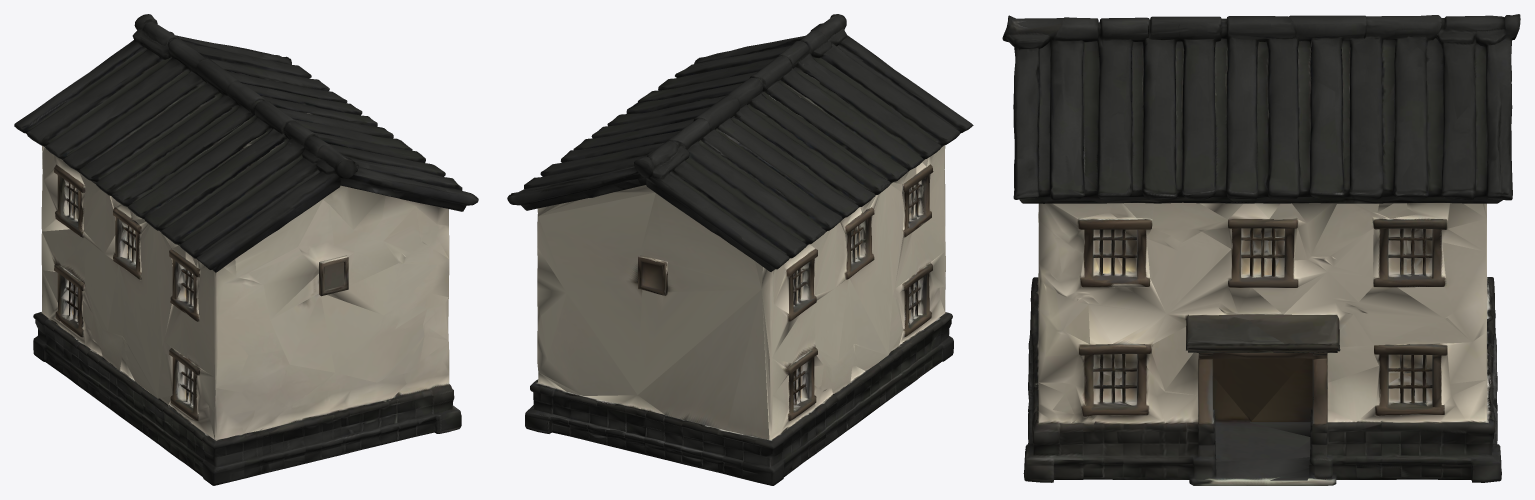
Rendered from bld_japan_kura.fbx.
3 views of the same model, side by side, from view 1: azimuth 30°, elevation 25°; view 2: azimuth 150°, elevation 25°; view 3: azimuth 270°, elevation 25° (orthographic). The views are drawn at different scales.
Visible parts, largest first — view 1: bld_japan_kura_LOD0; view 2: bld_japan_kura_LOD0; view 3: bld_japan_kura_LOD0.
Boxes of the visible parts, bbox=[...] form: bld_japan_kura_LOD0: bbox=[14, 14, 478, 485]; bld_japan_kura_LOD0: bbox=[507, 14, 973, 485]; bld_japan_kura_LOD0: bbox=[1002, 14, 1520, 485].
Size of what is drawn, in the model's own units: 0.786 by 0.8109 by 0.9795.
